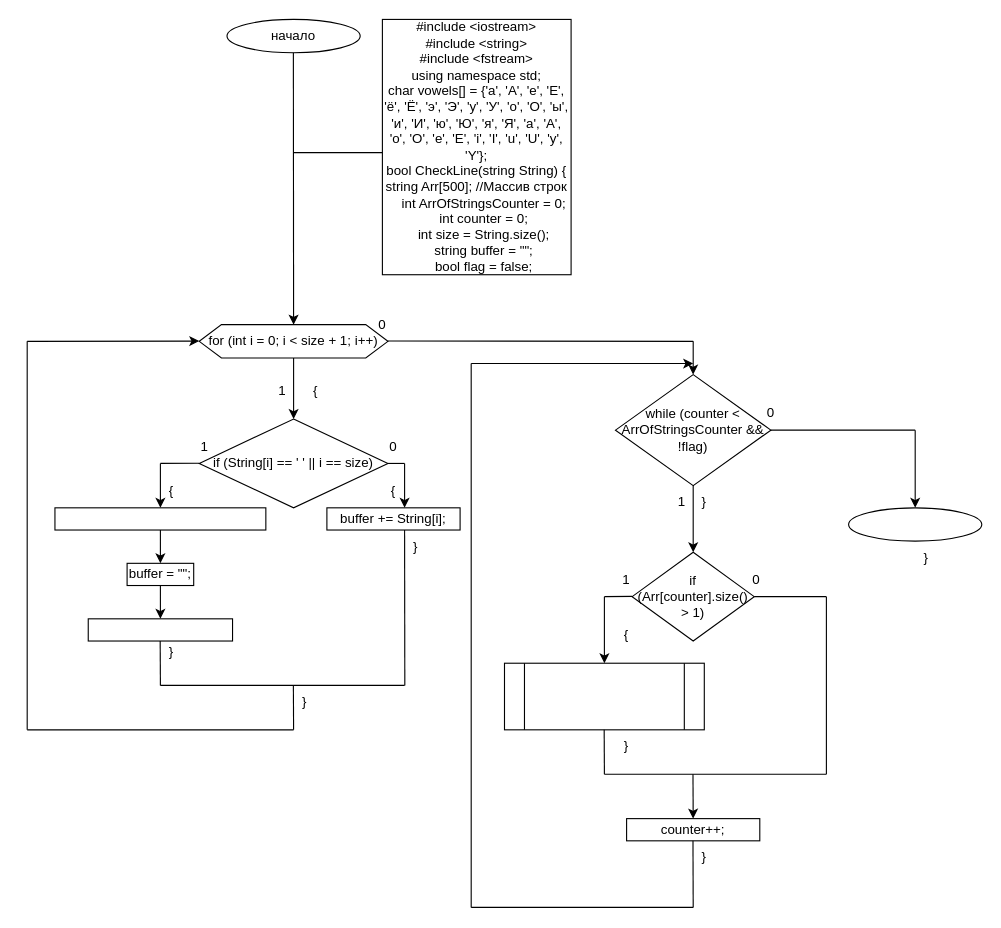
This 1001x928 diagram has some shape labels left out. Each missing label, with the centre of its shape:
Arr[ArrOfStringsCounter] = buffer;: point (160, 518)
ArrOfStringsCounter++;: point (160, 629)
flag = CheckForReapets(&Arr[0], Arr[counter], counter, ArrOfStringsCounter);: point (603, 696)
return flag;: point (914, 524)
